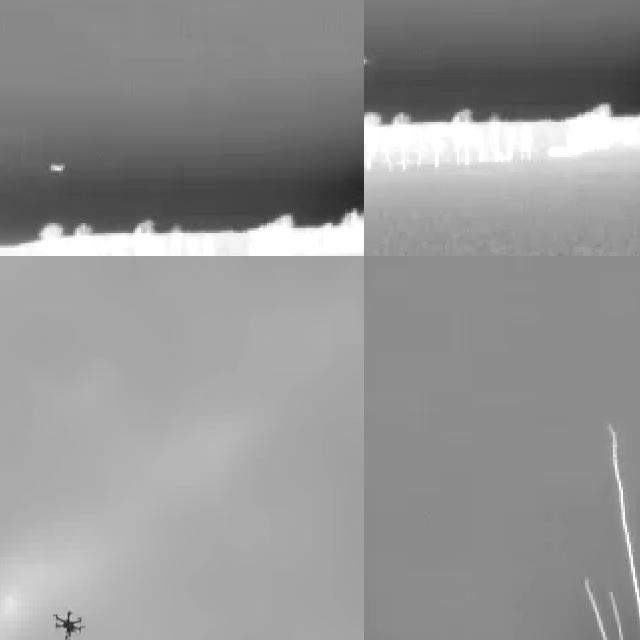1: (35, 152, 75, 189), (364, 45, 378, 80)
drone: (51, 598, 88, 640)
